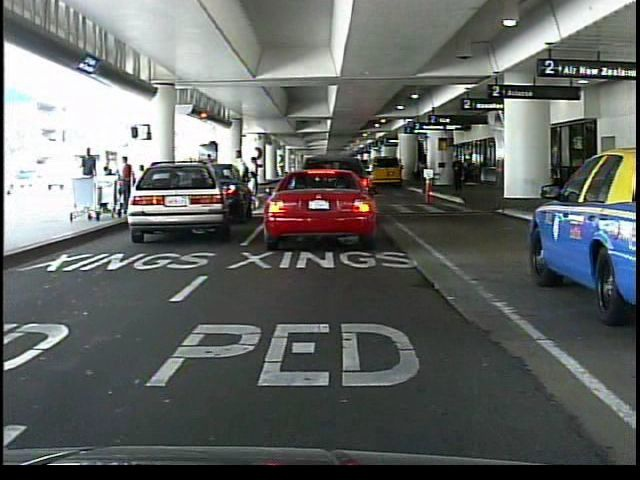person: (231, 146, 249, 220), (80, 147, 101, 209), (203, 151, 221, 214), (302, 152, 320, 204), (452, 154, 466, 191)
